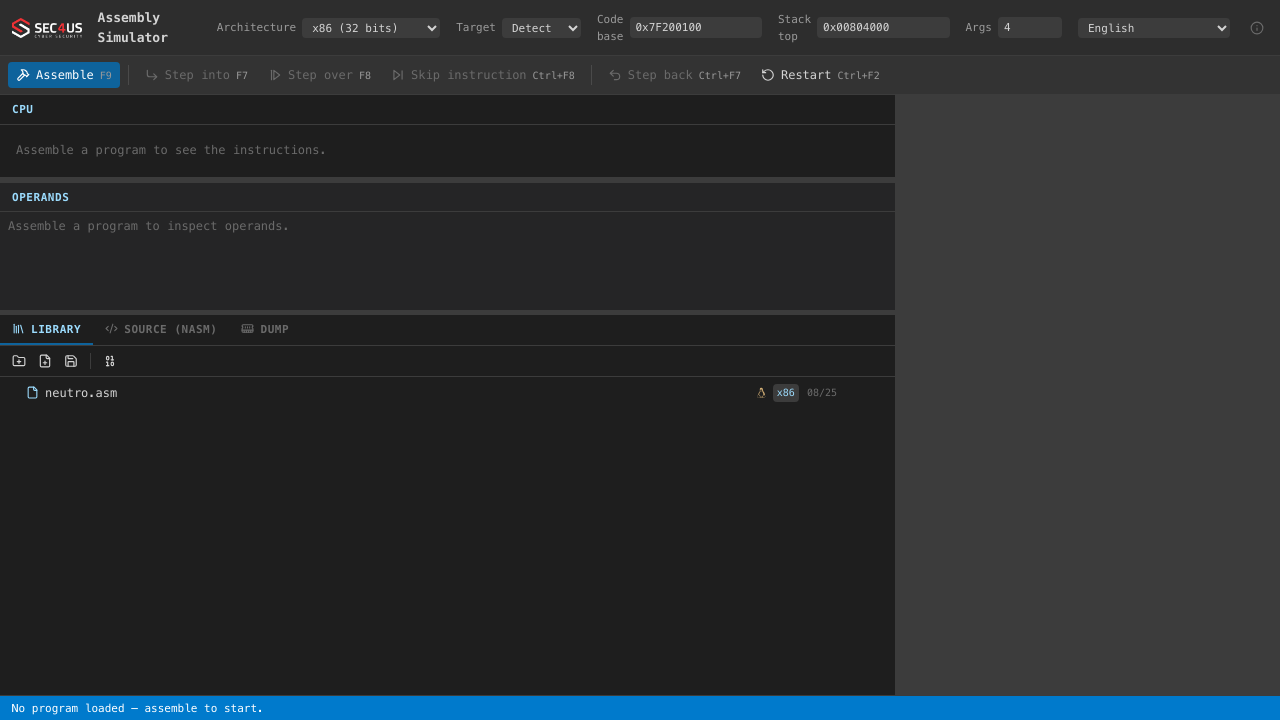
Scenario: alvo desconhecido: o simulador pergunta antes de montar
Click the button "neutro.asm" at [81, 392], box top-left (8, 381), bottom-right (746, 404)
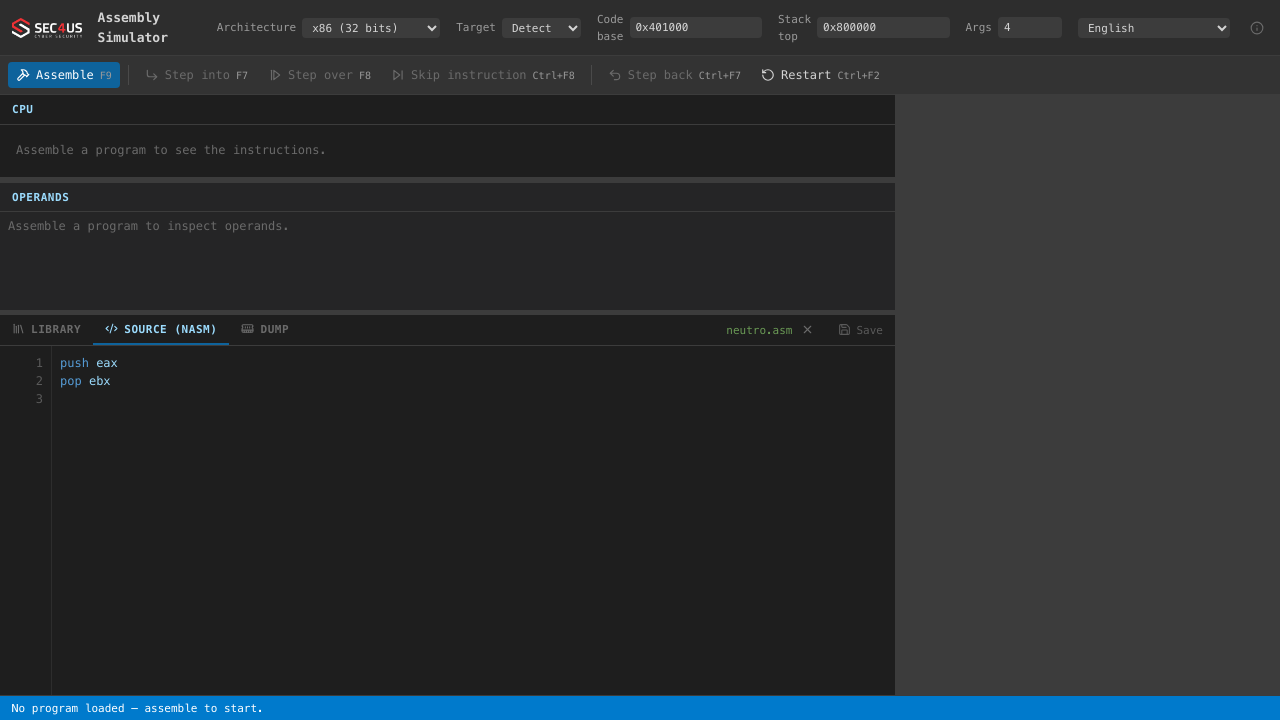
Click the button "Assemble F9" at [64, 75], box top-left (8, 62), bottom-right (120, 88)
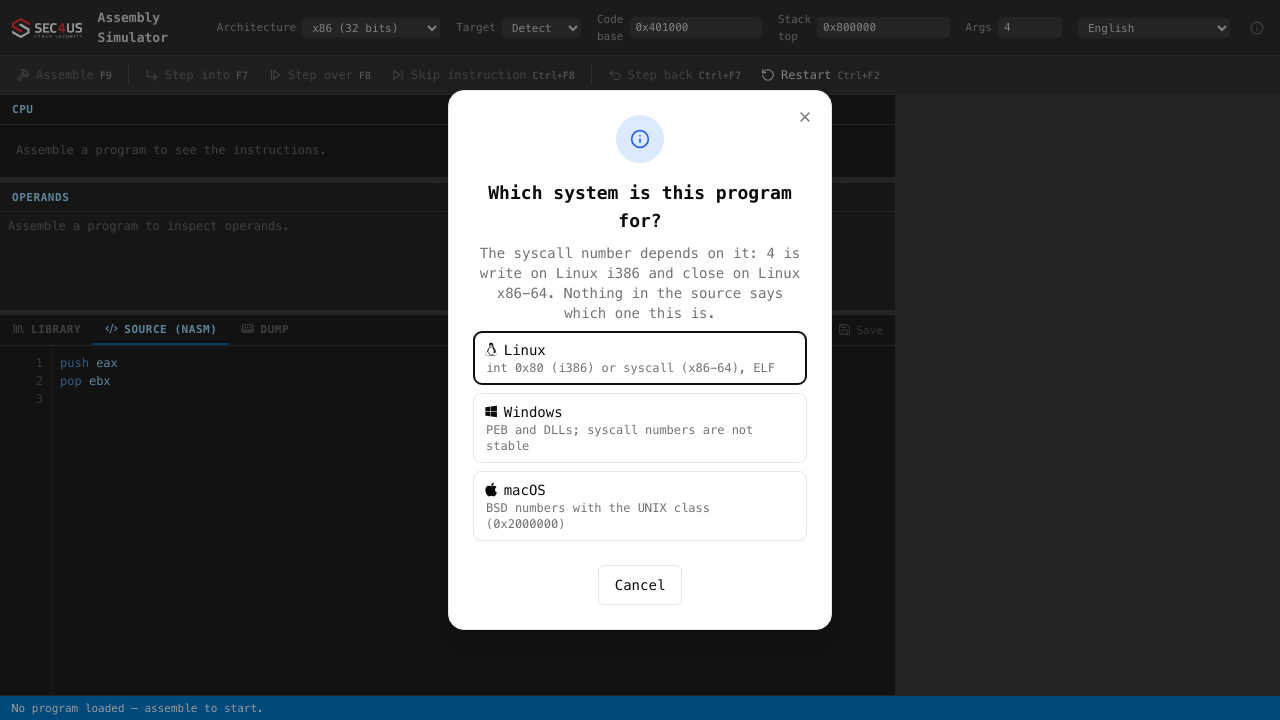
Expected: the text "00401000" is not shown
Expected: the text "Which system is this program for?" is shown, top-left (473, 179), bottom-right (807, 235)
Click the button " Linux int 0x80 (i386) or syscall (x86-64), ELF" at [640, 358], box top-left (473, 331), bottom-right (807, 385)
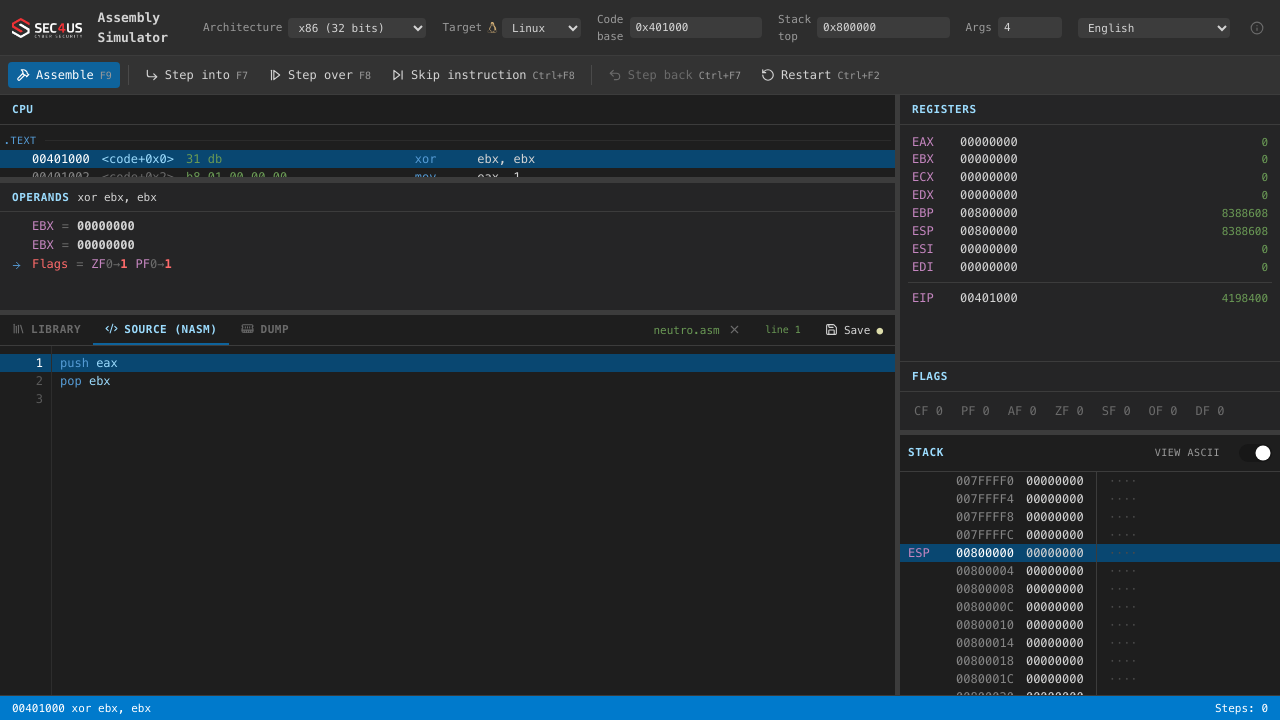
Expected: the text "00401000" is shown, top-left (32, 150), bottom-right (90, 168)
Expected: the dropdown labelled "Target " shows "Linux", top-left (502, 18), bottom-right (581, 38)
